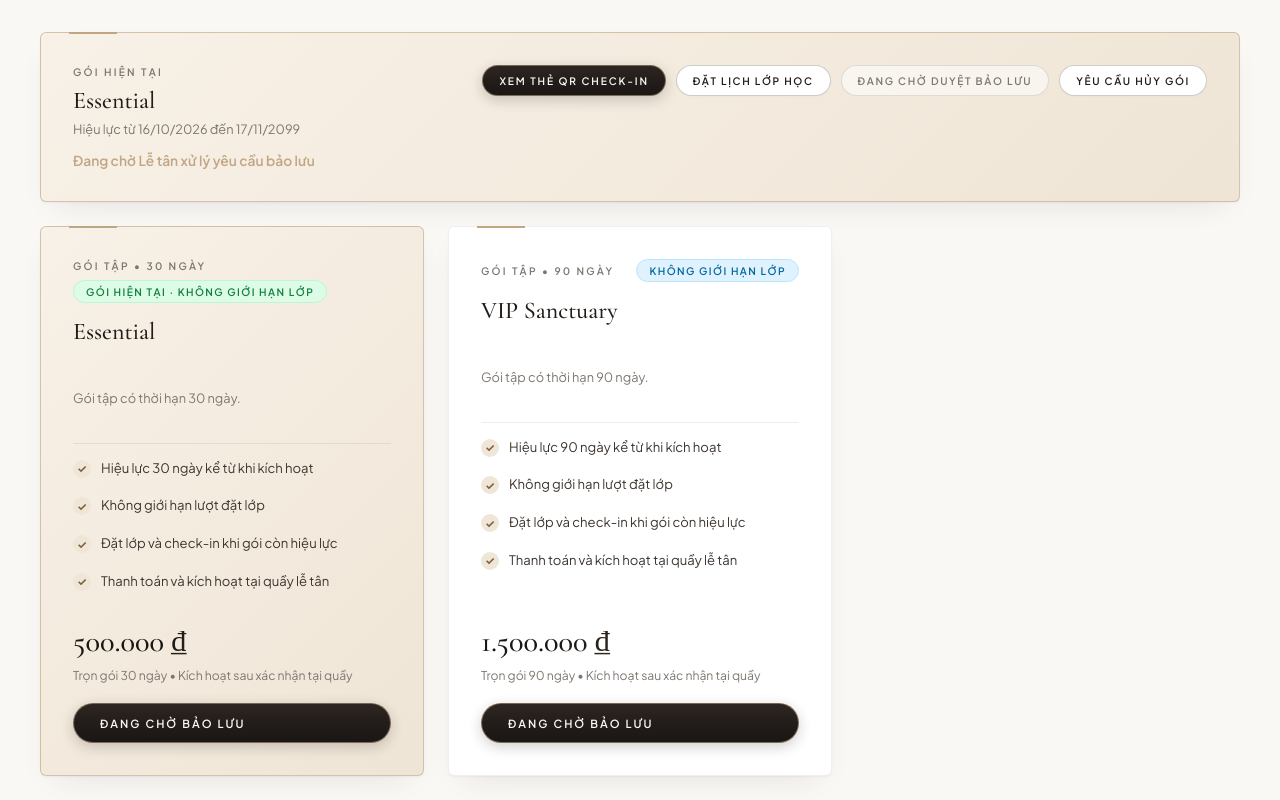
Test: SCRUM-86 packages › blocks renewal and upgrade while an active package has a pending hold
Click the button "Đang chờ bảo lưu" below "Hiệu lực 30 ngày kể từ khi kích hoạt" at (232,724), box left=73, top=704, right=391, bottom=744
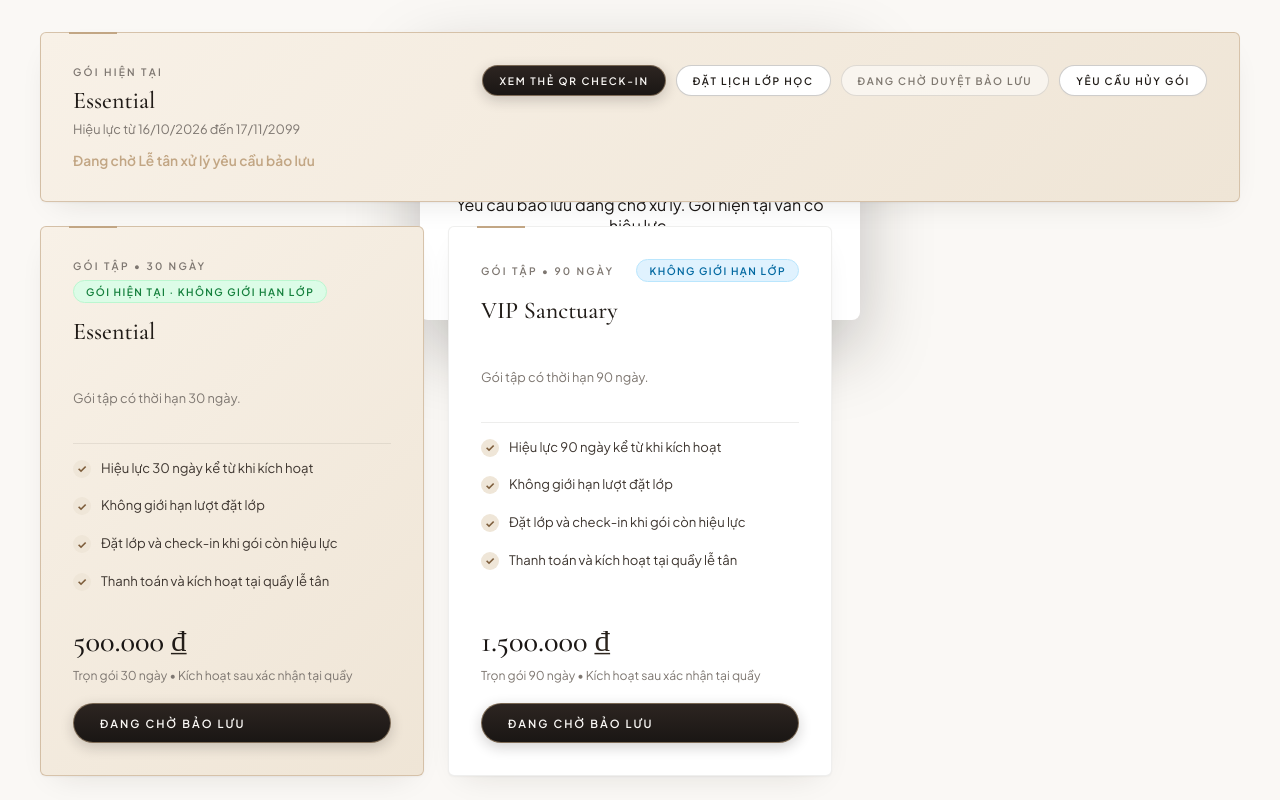
Result: the dialog shows "Yêu cầu bảo lưu đang chờ xử lý" at left=456, top=194, right=824, bottom=236
